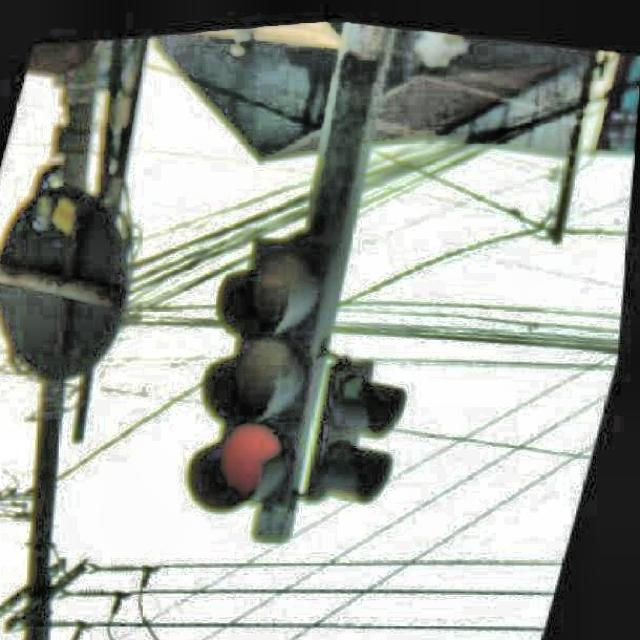red: (184, 225, 331, 515)
